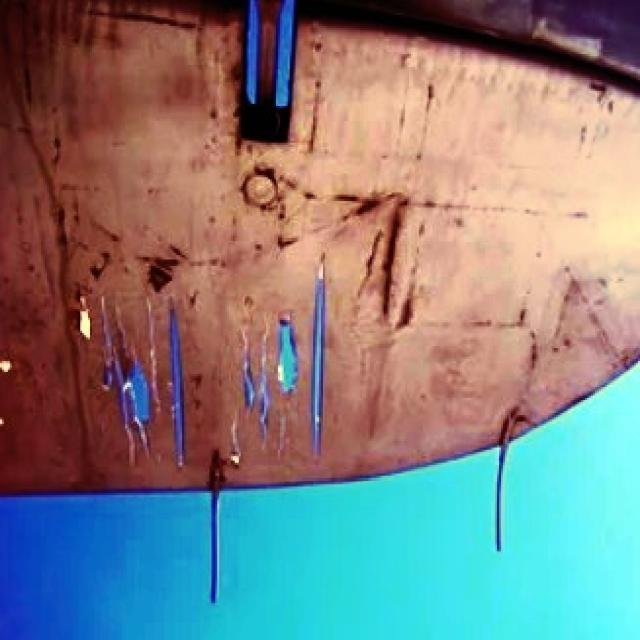crack: (95, 248, 336, 473)
